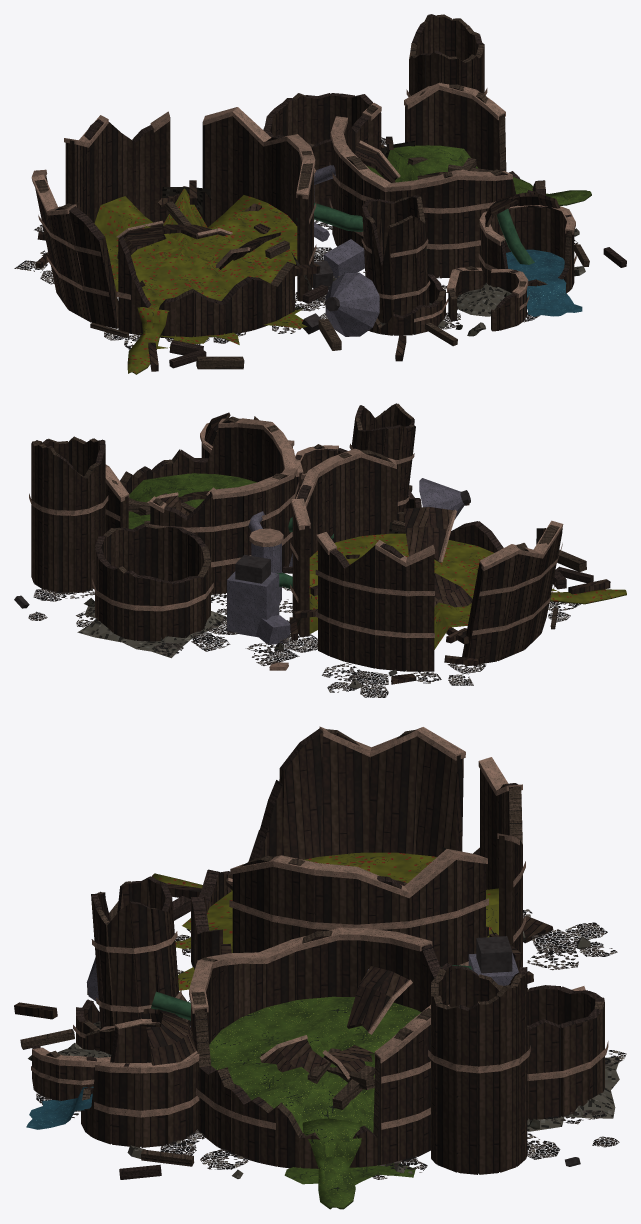
Rendered from CreInvent02a.glb.
The picture shows the model from 3 angles, top to bottom: view 1: azimuth 30°, elevation 25°; view 2: azimuth 150°, elevation 25°; view 3: azimuth 270°, elevation 25°; orthographic projection. The views are drawn at different scales.
Parts seen in each view (by area): view 1: i2_stave; view 2: i2_stave; view 3: i2_stave.
Part boxes in pixels (x1,y1,x2,y2): i2_stave: (14,14,626,374); i2_stave: (14,403,626,697); i2_stave: (14,726,626,1209).
Size of the model in its own units: 12.6 by 3.45 by 9.8.
Materials: 11 (11 with a texture image).
